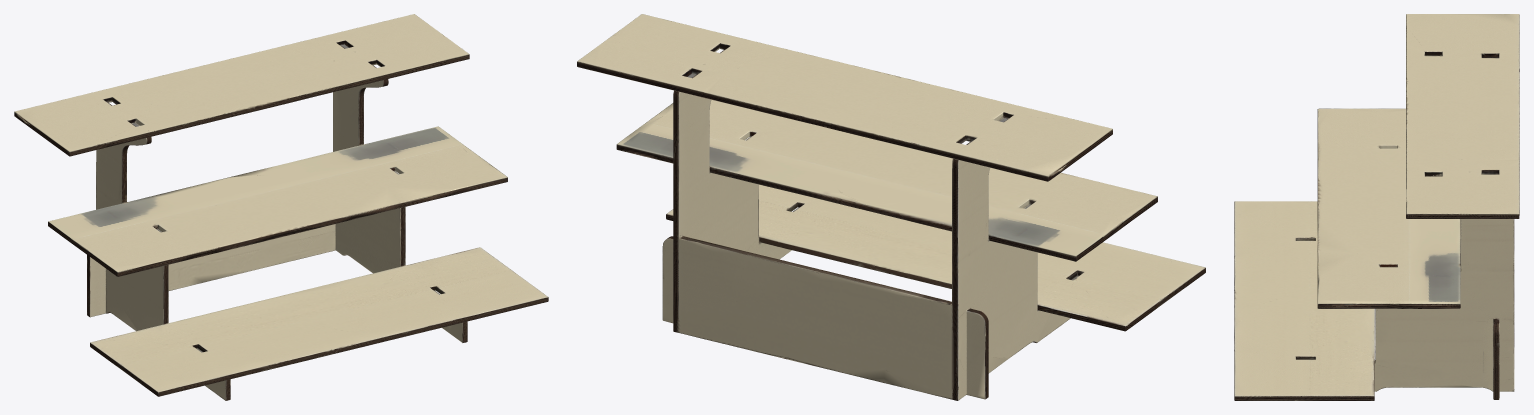
The model's file is 3tier-shelf.glb.
3 views of the same model, side by side, from view 1: azimuth 30°, elevation 25°; view 2: azimuth 150°, elevation 25°; view 3: azimuth 270°, elevation 25° (orthographic). The views are drawn at different scales.
Size of the model in its own units: 1.9 by 0.9648 by 1.15.
Materials: 1 (1 with a texture image).
